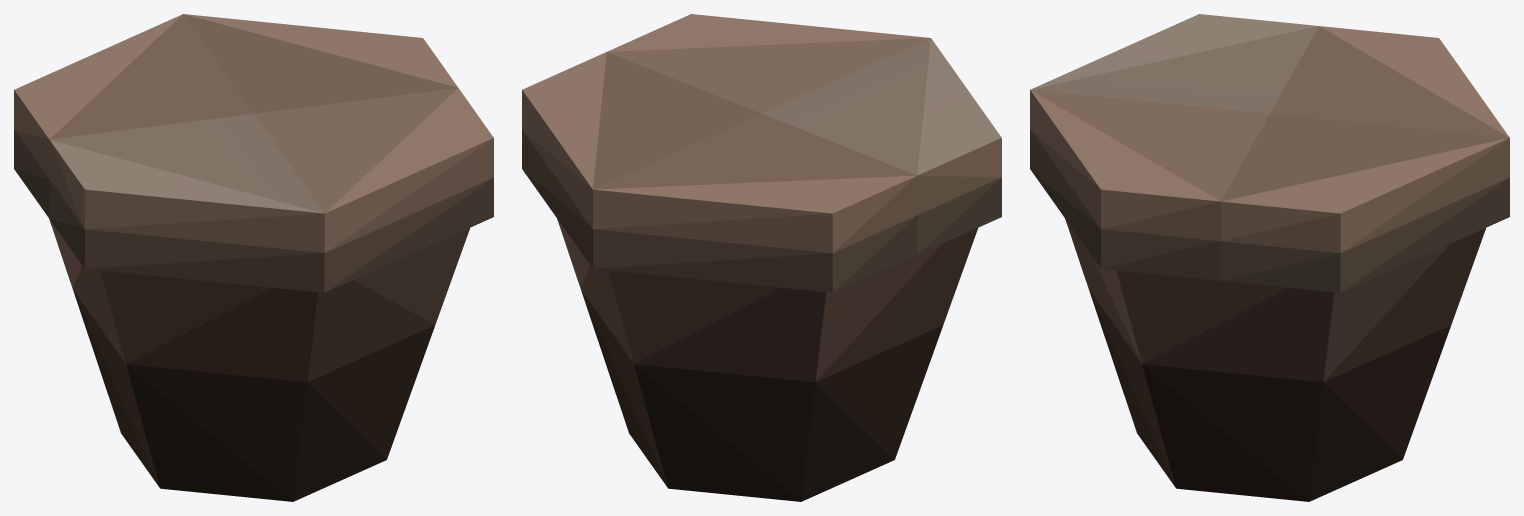
The model's file is prop_container_vase_3.fbx.
3 views of the same model, side by side, from view 1: azimuth 30°, elevation 25°; view 2: azimuth 150°, elevation 25°; view 3: azimuth 270°, elevation 25° (orthographic).
Visible parts, largest first — view 1: prop_container_vase_3; view 2: prop_container_vase_3; view 3: prop_container_vase_3.
Part boxes in pixels (left/top/right/bottom): prop_container_vase_3: left=14, top=14, right=493, bottom=501; prop_container_vase_3: left=522, top=14, right=1001, bottom=501; prop_container_vase_3: left=1030, top=14, right=1509, bottom=501.
Size of the model in its own units: 0.3039 by 0.2363 by 0.3087.
